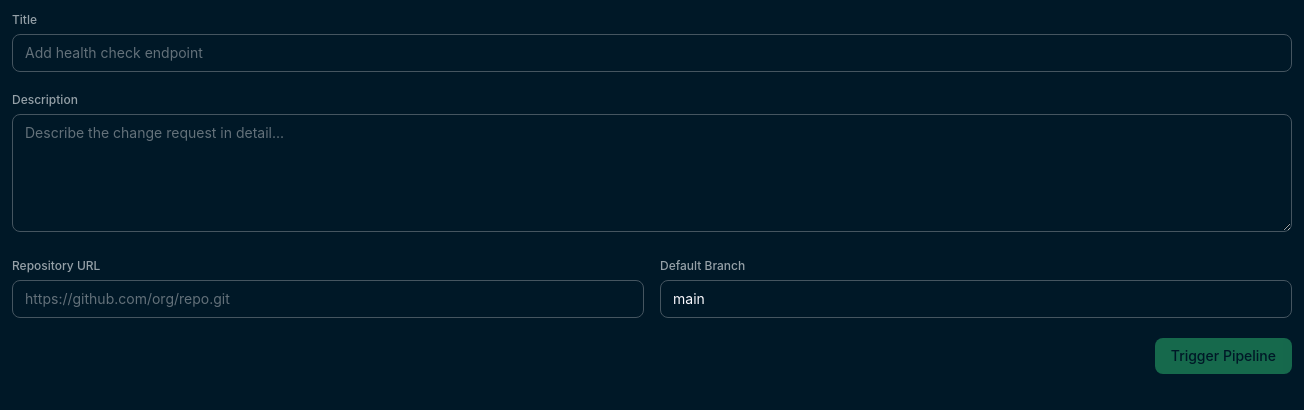
CRForm › allows empty URL (optional field)
Expected: the text "url must start with" is not shown
Note: Type something invalid, then clear
Type "x" into the field with placeholder "https://github.com/org/repo.git". click: (328, 299)
box: [12,280,644,318]
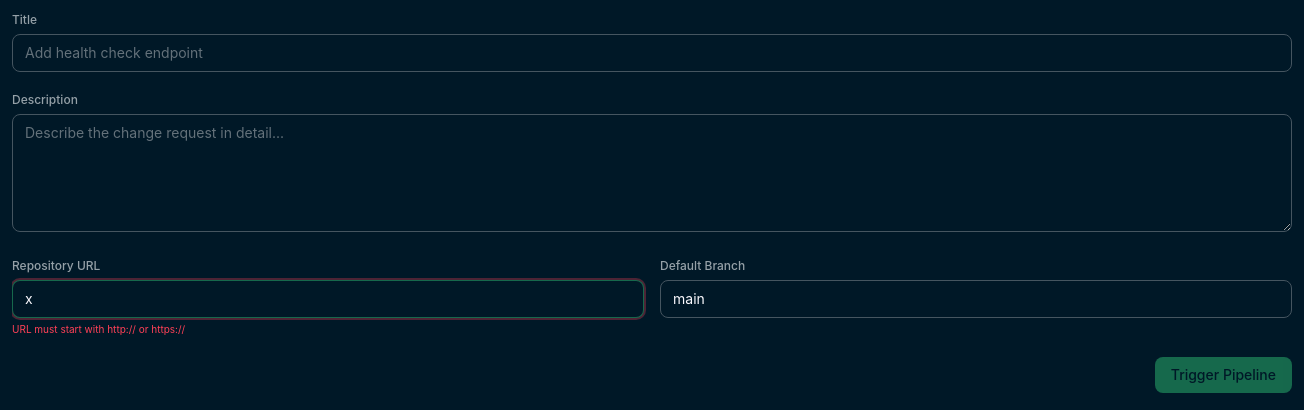
Now the text "URL must start with http:// or https://" is shown, box [12,323,185,335]
Clear the field with placeholder "https://github.com/org/repo.git". click: (328, 299)
box: [12,280,644,318]
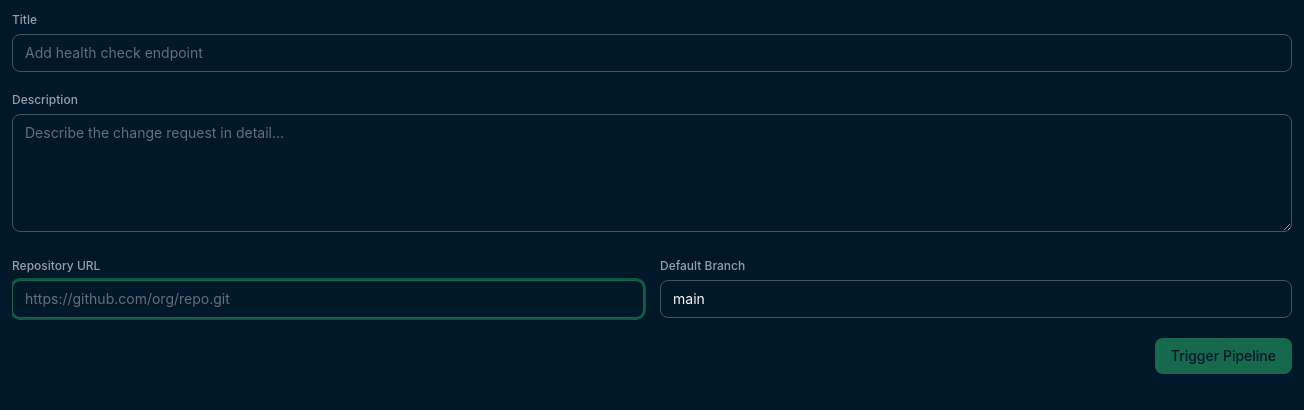
Now the text "URL must start with" is gone
